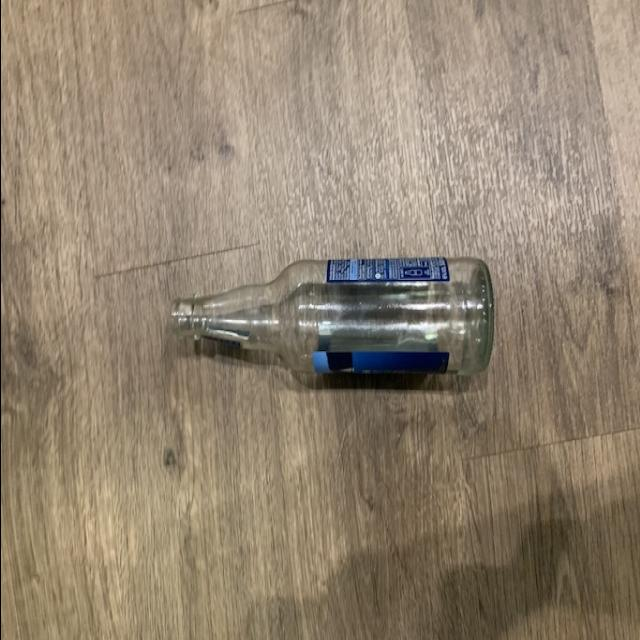Glass Bottle: (165, 250, 492, 381)
